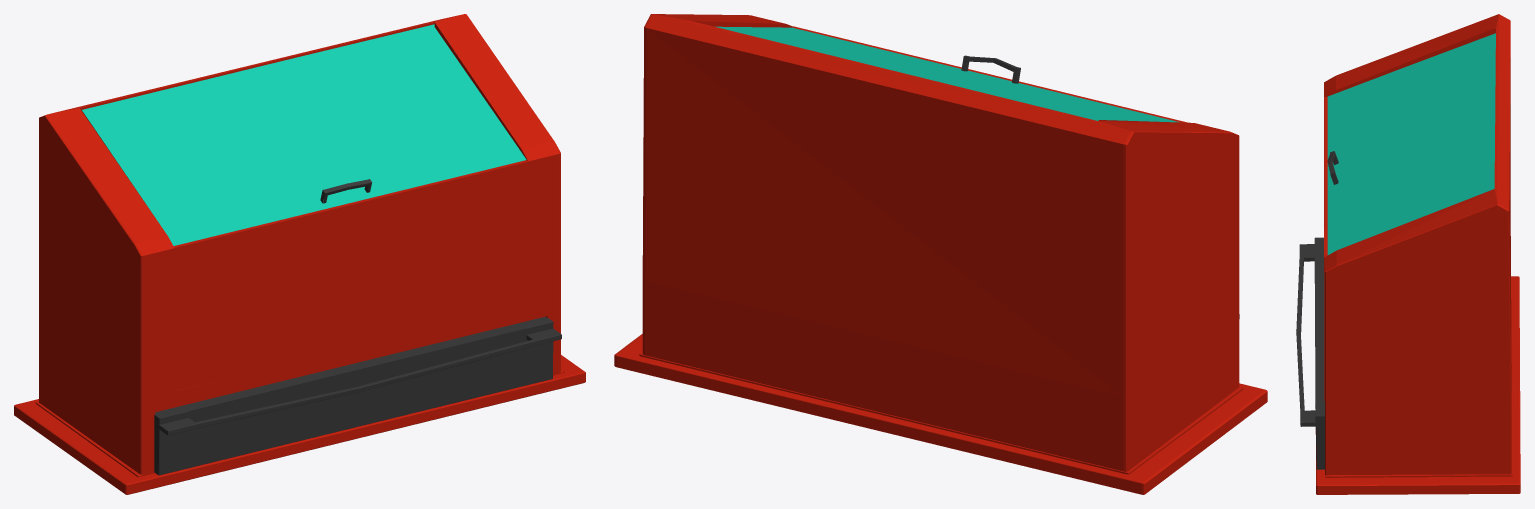
The model's file is TrashBin.fbx.
3 views of the same model, side by side, from view 1: azimuth 30°, elevation 25°; view 2: azimuth 150°, elevation 25°; view 3: azimuth 270°, elevation 25° (orthographic). The views are drawn at different scales.
Parts seen in each view (by area): view 1: REFR, glass, wall; view 2: REFR, glass, wall; view 3: REFR, glass, wall.
Boxes of the visible parts, bbox=[...] form: REFR: bbox=[14, 14, 585, 494]; glass: bbox=[82, 24, 526, 245]; wall: bbox=[173, 160, 529, 390]; REFR: bbox=[614, 14, 1267, 494]; glass: bbox=[715, 26, 1180, 122]; wall: bbox=[793, 26, 1187, 122]; REFR: bbox=[1296, 14, 1520, 494]; glass: bbox=[1327, 33, 1495, 254]; wall: bbox=[1324, 97, 1327, 400].
Size of the model in its own units: 3443 by 2156 by 1557.
